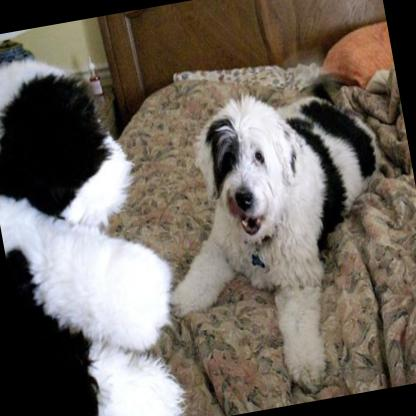Old_English_sheepdog: (129, 70, 416, 414)
